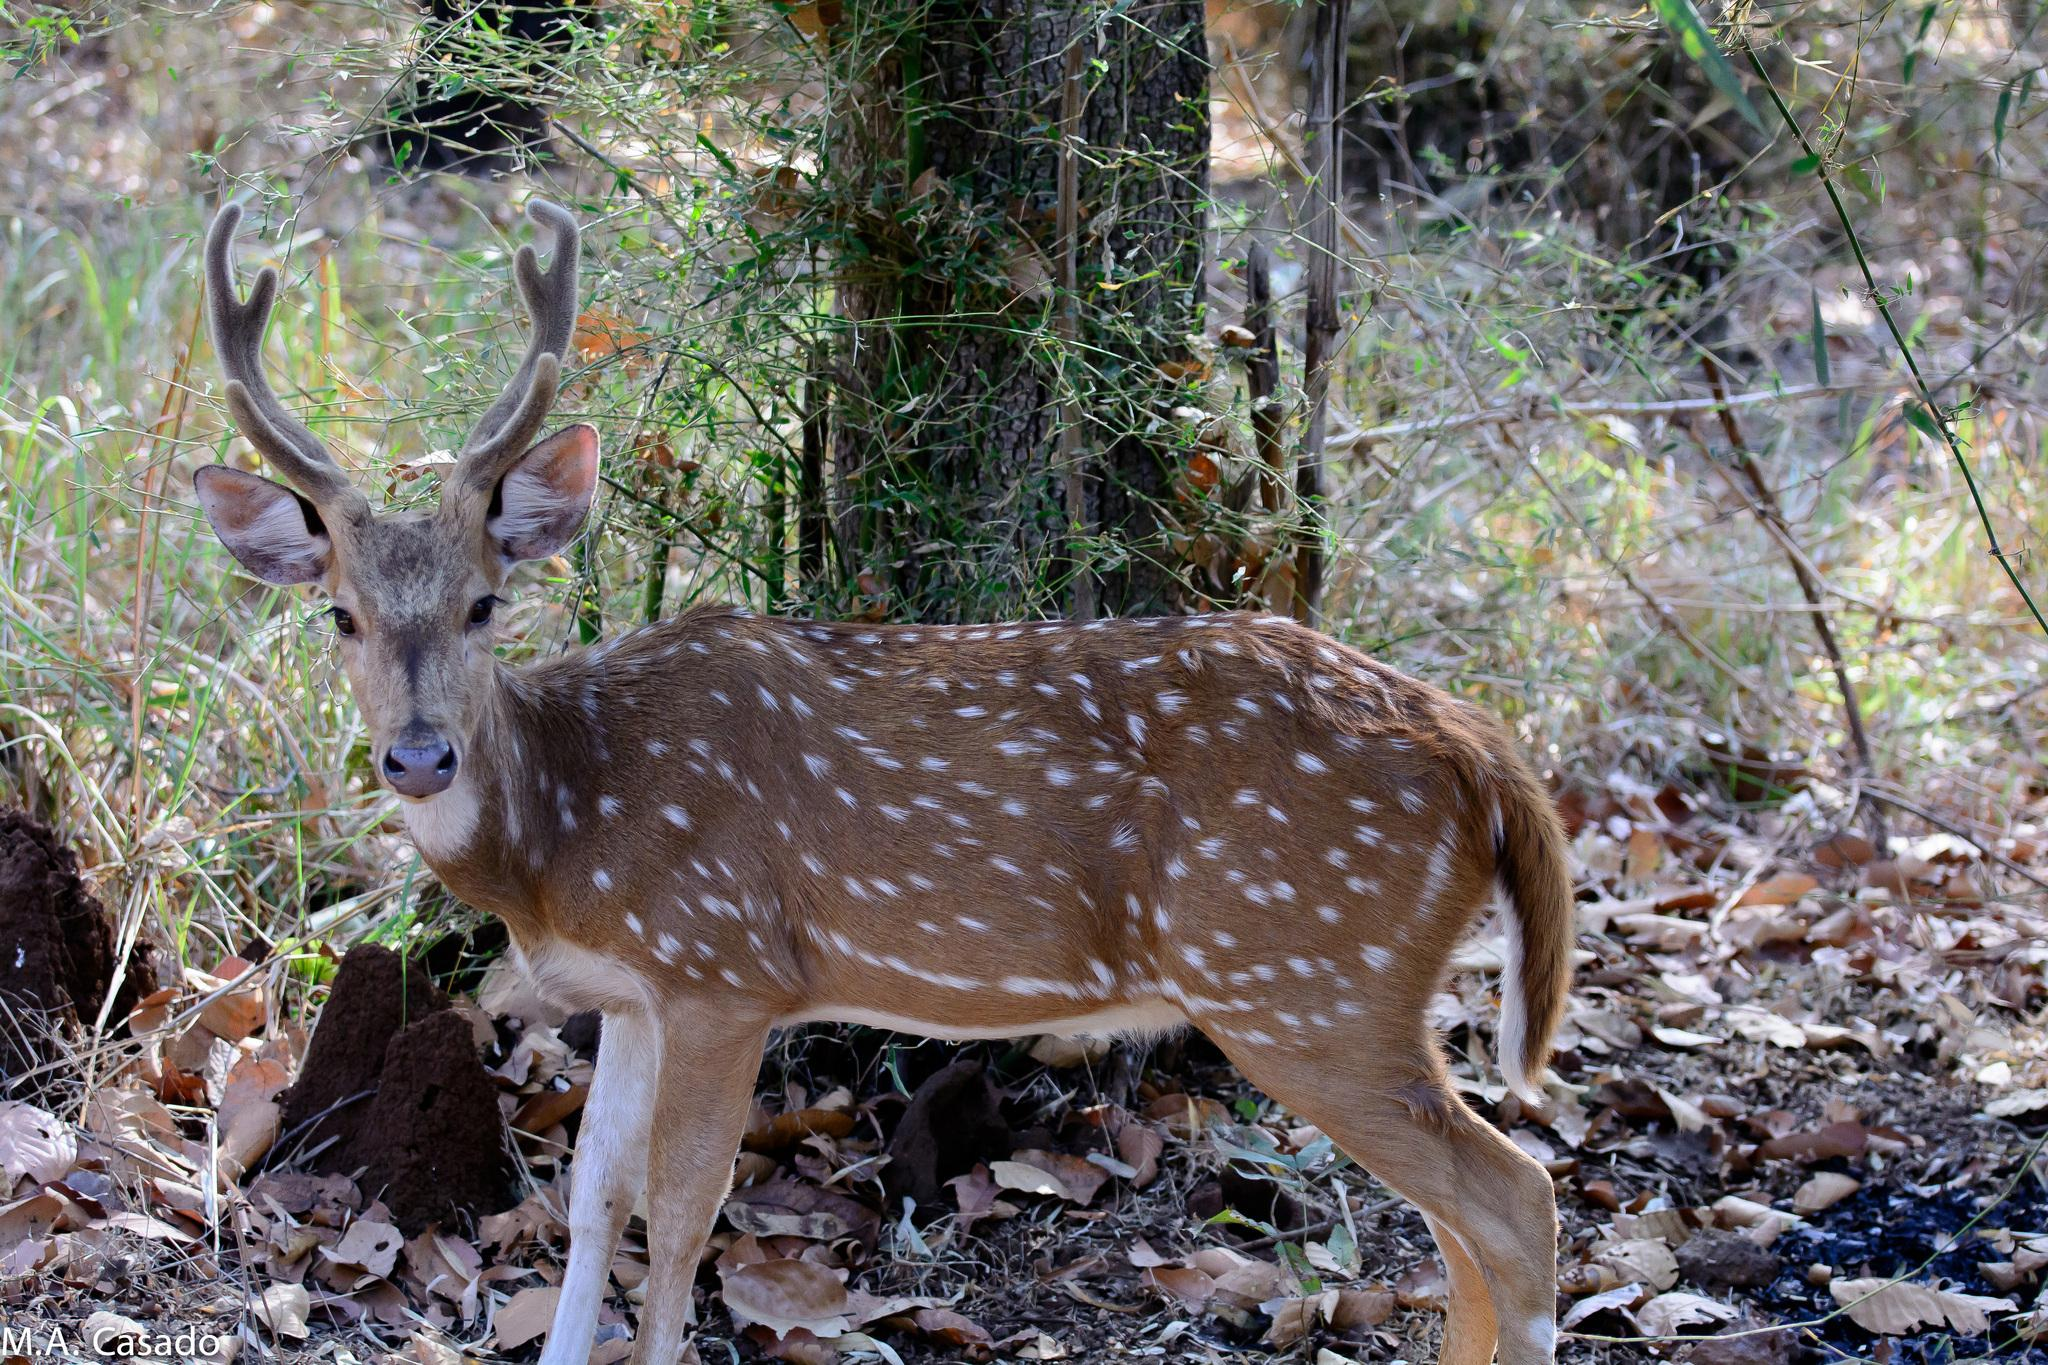Deer: (193, 198, 1570, 1363)
